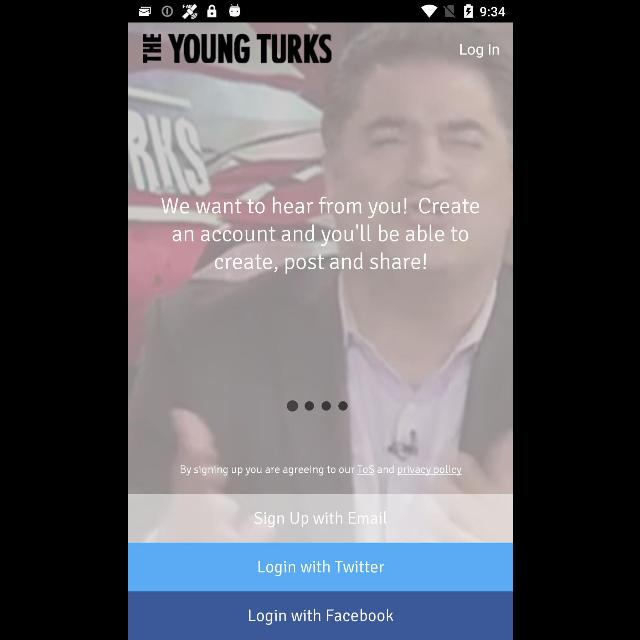backgroundimage: (128, 23, 512, 493)
image: (142, 34, 330, 64)
pageindicator: (286, 400, 348, 412)
text: (160, 196, 478, 274), (459, 44, 498, 58)
textbutton: (128, 493, 512, 542), (128, 543, 512, 591), (128, 592, 512, 640), (180, 465, 462, 477)
uppertaskbar: (128, 1, 512, 23)
